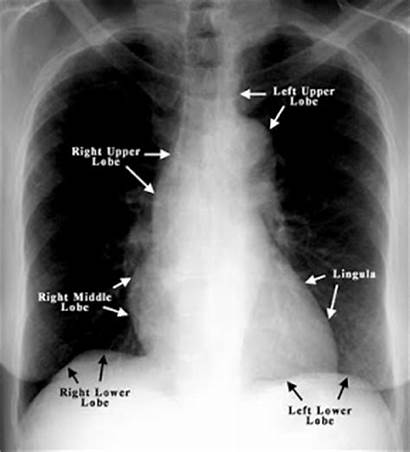telestration: (33, 288, 110, 313), (273, 82, 337, 107), (57, 387, 133, 407), (286, 405, 353, 426), (72, 145, 141, 165), (124, 164, 155, 195), (334, 370, 361, 399), (331, 266, 379, 280), (238, 84, 269, 102), (325, 281, 340, 317), (285, 377, 304, 405), (270, 104, 286, 127), (100, 306, 129, 317), (110, 276, 129, 292), (64, 364, 80, 383), (99, 353, 107, 386), (143, 149, 172, 158), (305, 274, 325, 283)
